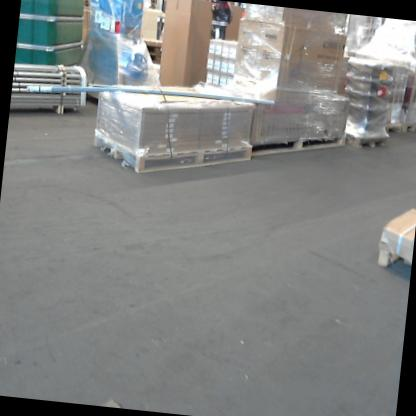pallet: (345, 131, 388, 149), (383, 120, 403, 135), (401, 119, 416, 133)
